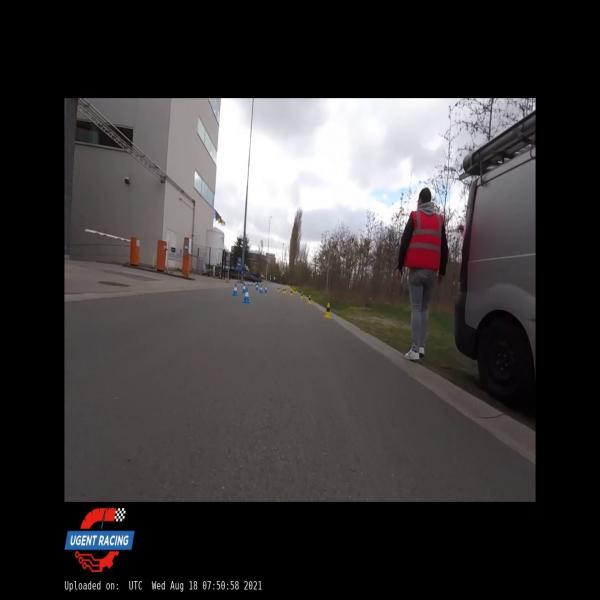blue_cone: (242, 288, 251, 304), (231, 284, 238, 296), (242, 283, 246, 293), (259, 285, 263, 294), (264, 285, 268, 293), (256, 283, 258, 291), (247, 281, 250, 286), (250, 281, 253, 285)
yellow_cone: (324, 303, 331, 319), (307, 294, 311, 304), (300, 291, 304, 298), (290, 289, 293, 296), (282, 288, 285, 294), (277, 287, 280, 292), (284, 288, 286, 292)
